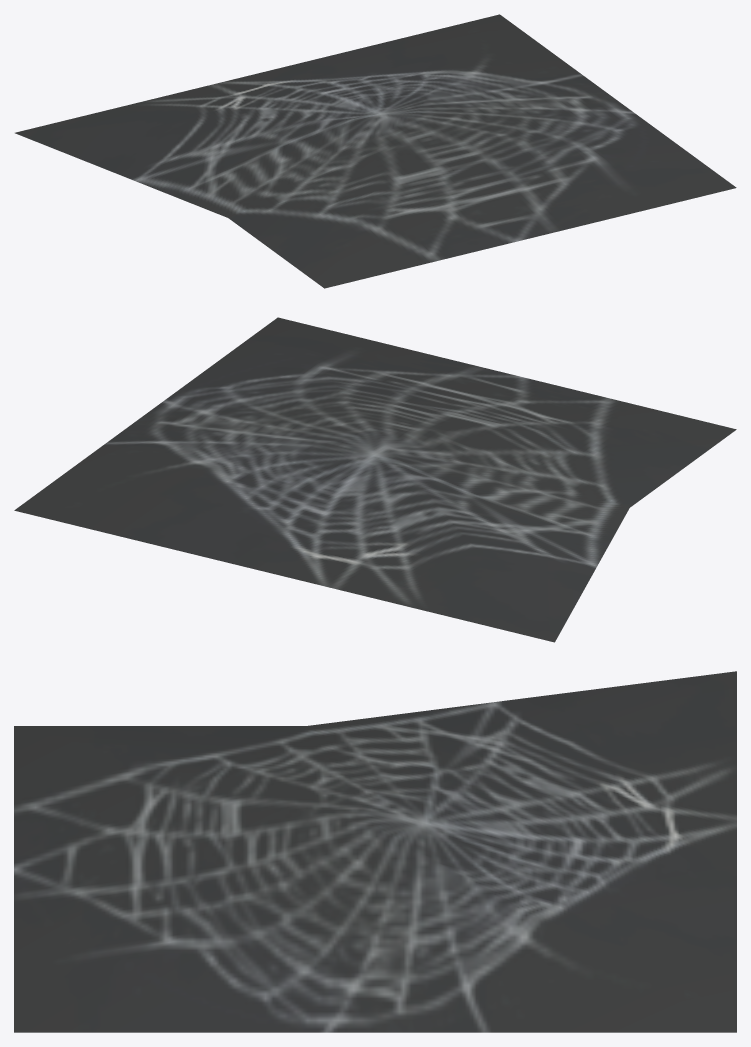
Rendered from zshh_zhizhuwang_1.FBX.
3 views of the same model, one above another, from view 1: azimuth 30°, elevation 25°; view 2: azimuth 150°, elevation 25°; view 3: azimuth 270°, elevation 25° (orthographic). The views are drawn at different scales.
Parts seen in each view (by area): view 1: KQZD_zhizhuwang_1; view 2: KQZD_zhizhuwang_1; view 3: KQZD_zhizhuwang_1.
Boxes of the visible parts, <box> form: KQZD_zhizhuwang_1: <box>15,14,736,288</box>; KQZD_zhizhuwang_1: <box>14,317,736,642</box>; KQZD_zhizhuwang_1: <box>14,671,736,1032</box>.
Bounding box in the file's own units: 388 × 328 × 25.88.
